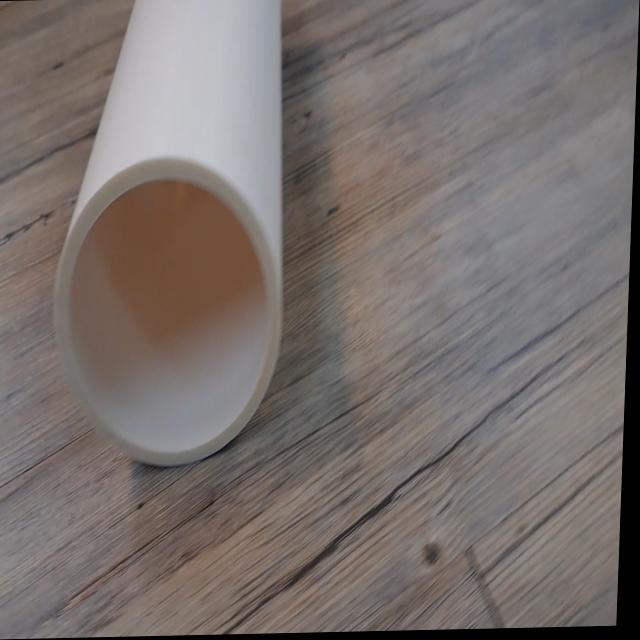CORAL: (33, 0, 325, 502)
